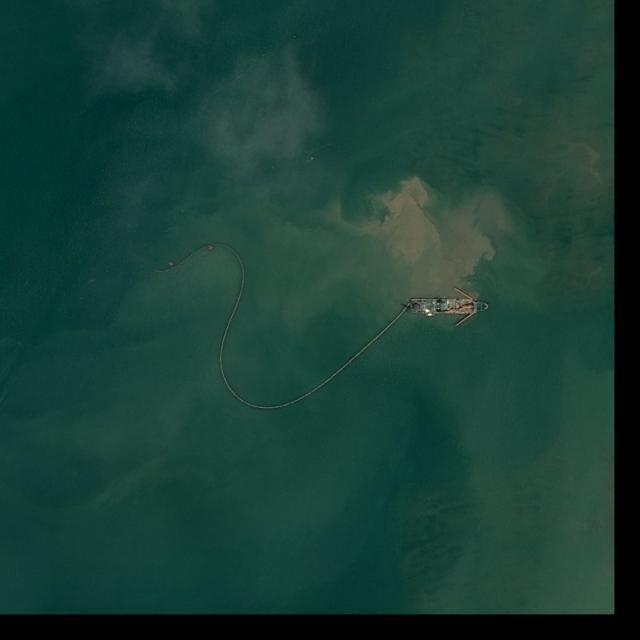ship: (410, 299, 490, 315)
